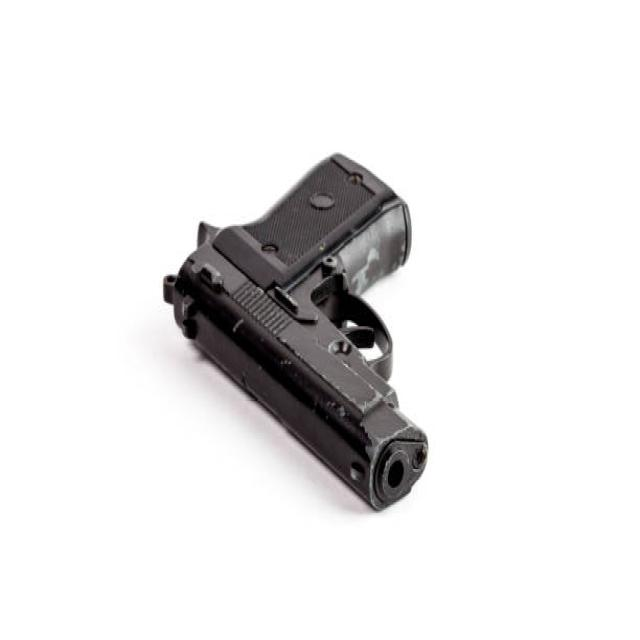pistol: (157, 151, 434, 522)
